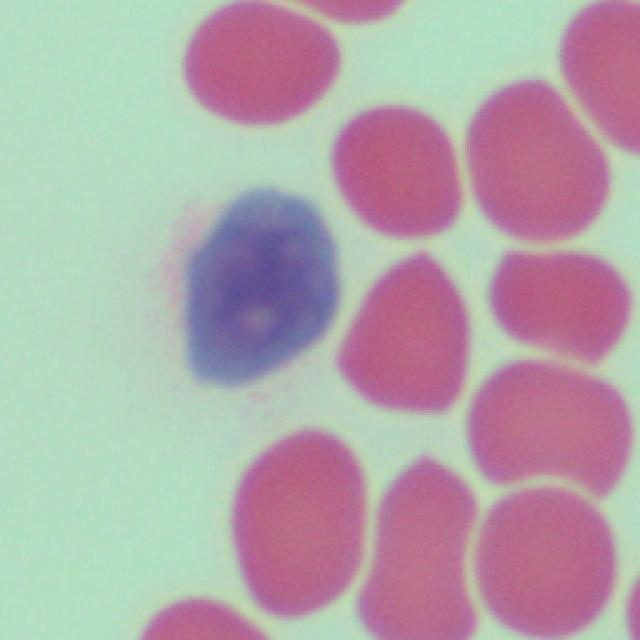RBC: (227, 418, 369, 620), (449, 354, 635, 508), (474, 483, 640, 640), (350, 438, 479, 640), (462, 73, 608, 244), (342, 245, 472, 425), (484, 238, 628, 382), (174, 0, 330, 128), (326, 93, 460, 241), (560, 1, 640, 152)
WBC: (168, 175, 344, 395)
